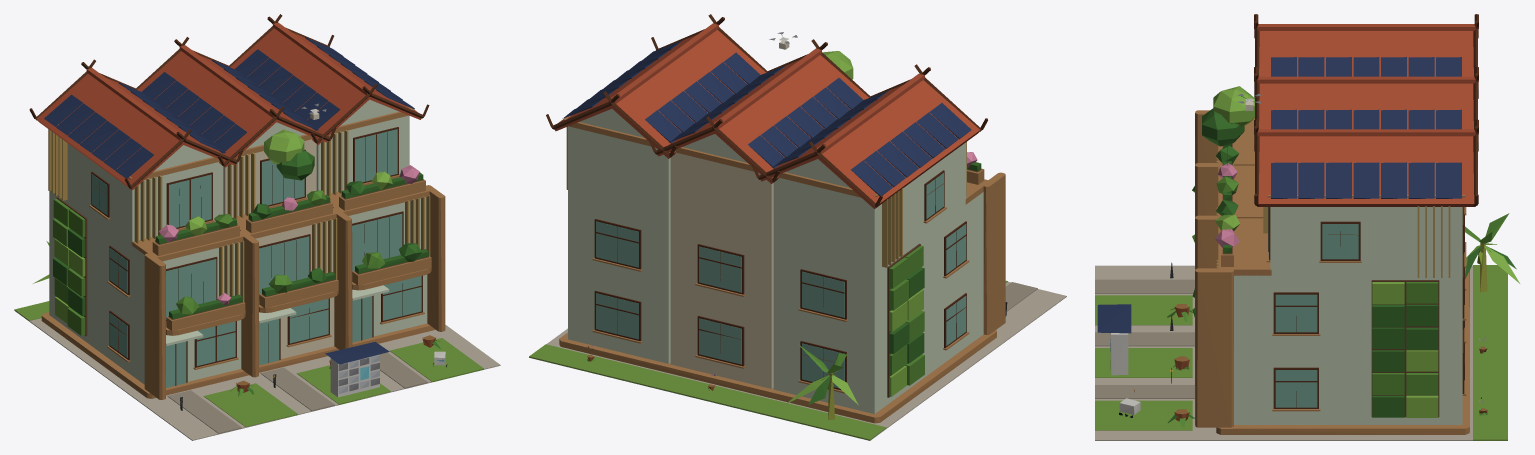
Rendered from home_3.glb.
3 renders of one model, left to right at view 1: azimuth 30°, elevation 25°; view 2: azimuth 150°, elevation 25°; view 3: azimuth 270°, elevation 25°, orthographic. The views are drawn at different scales.
Visible parts, largest first — view 1: body; view 2: body; view 3: body.
Boxes of the visible parts, x1,y1,x2,y2 form: body: [14, 14, 500, 440]; body: [529, 14, 1066, 440]; body: [1095, 14, 1519, 440].
Bounding box in the file's own units: 15.9 × 12.46 × 16.39.
